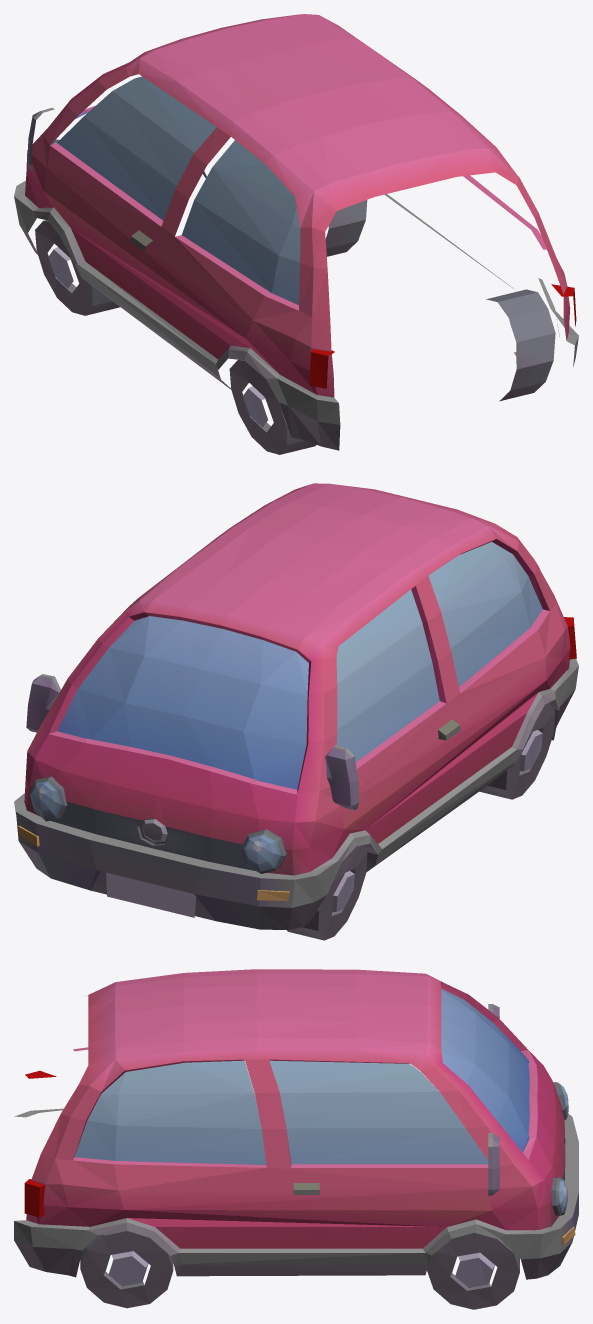
File: city_single2_car02.glb
The picture shows the model from 3 angles, top to bottom: view 1: azimuth 30°, elevation 25°; view 2: azimuth 150°, elevation 25°; view 3: azimuth 270°, elevation 25°; orthographic projection. The views are drawn at different scales.
Parts seen in each view (by area): view 1: city_single2_car02; view 2: city_single2_car02; view 3: city_single2_car02.
Part boxes in pixels (bbox=[...]): city_single2_car02: bbox=[14, 14, 578, 454]; city_single2_car02: bbox=[14, 483, 578, 940]; city_single2_car02: bbox=[14, 969, 578, 1309].
Size of the model in its own units: 1.09 by 0.8741 by 1.79.
